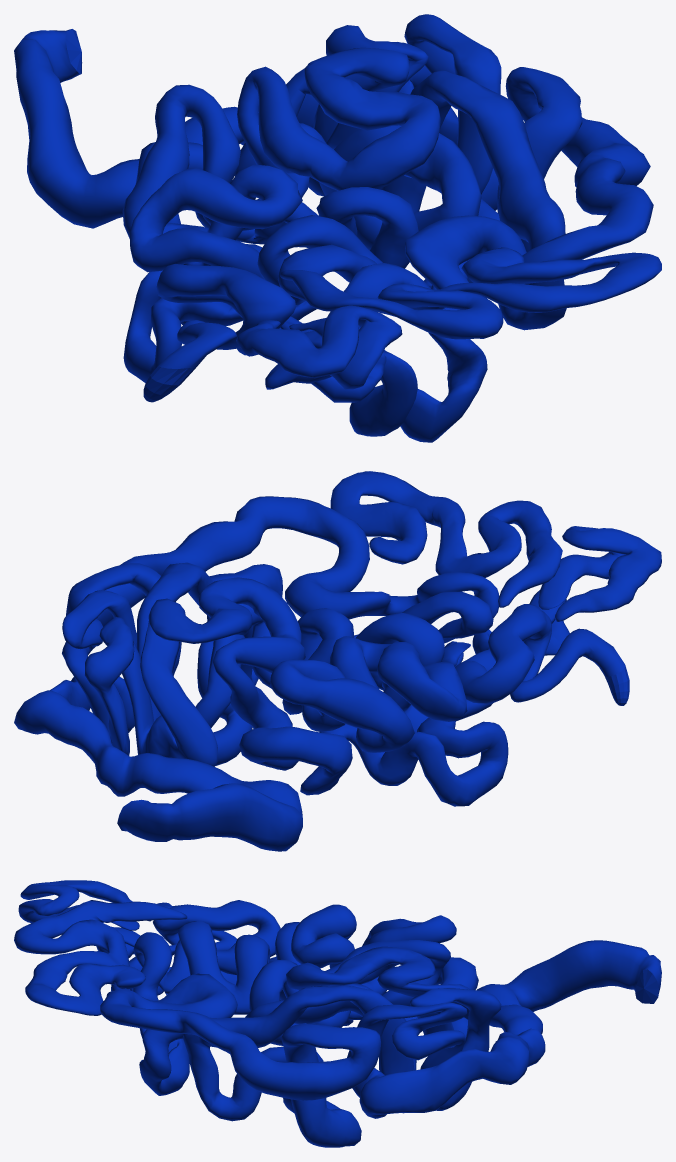
Rendered from SmallIntestine_3_Submucosa.fbx.
3 renders of one model, top to bottom at view 1: azimuth 30°, elevation 25°; view 2: azimuth 150°, elevation 25°; view 3: azimuth 270°, elevation 25°, orthographic. The views are drawn at different scales.
Parts seen in each view (by area): view 1: SmallIntestine_3_Submucosa; view 2: SmallIntestine_3_Submucosa; view 3: SmallIntestine_3_Submucosa.
Boxes of the visible parts, x1=… form: SmallIntestine_3_Submucosa: x1=14, y1=14, x2=661, y2=442; SmallIntestine_3_Submucosa: x1=14, y1=471, x2=661, y2=851; SmallIntestine_3_Submucosa: x1=14, y1=880, x2=661, y2=1147.
Size of the model in its own units: 189 by 75.25 by 261.
